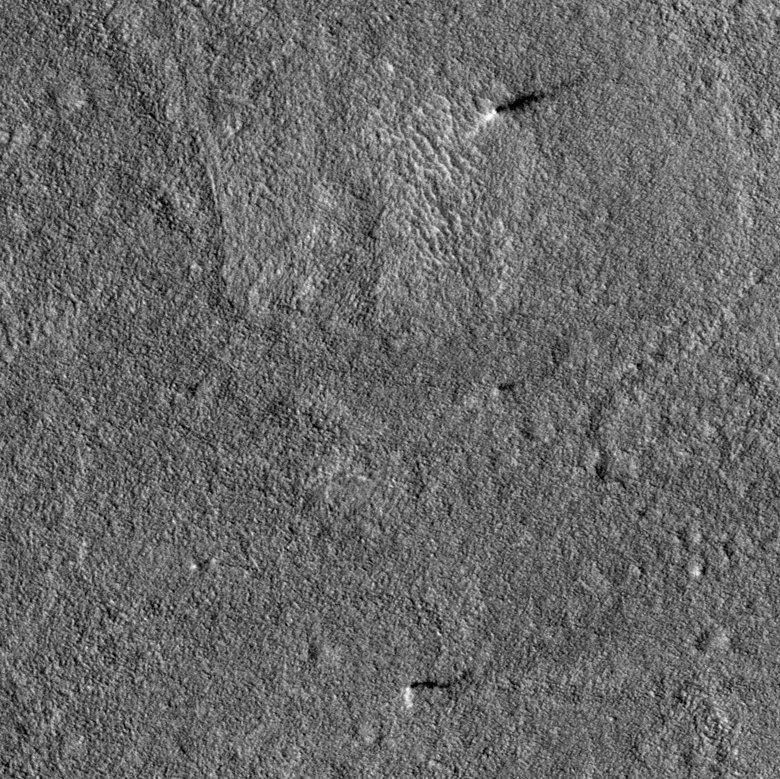dust_devil: (481, 80, 569, 123), (401, 677, 457, 712), (491, 380, 517, 398)
